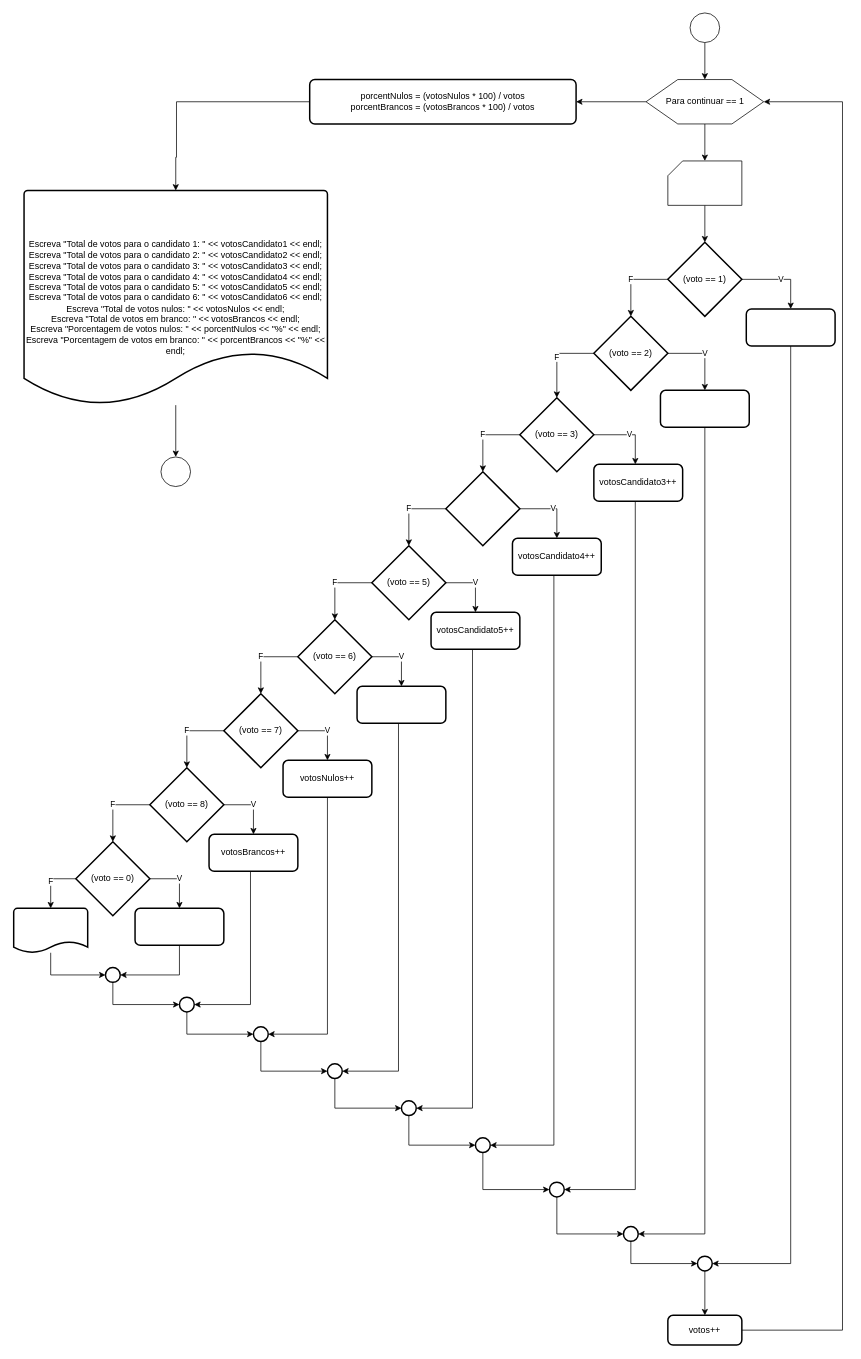
Image size: 861x1359. Some labels were removed from this diagram. Each missing label, with the centre of its shape:
(voto == 4): [482,508]
continuar = 0 votos--;: [179,926]
Escreva "Opção inválida!!": [50,930]
Fim: [175,471]
Início: [704,27]
Leia voto: [704,182]
votosCandidato1++: [790,327]
votosCandidato2++: [704,408]
votosCandidato6++: [401,704]
